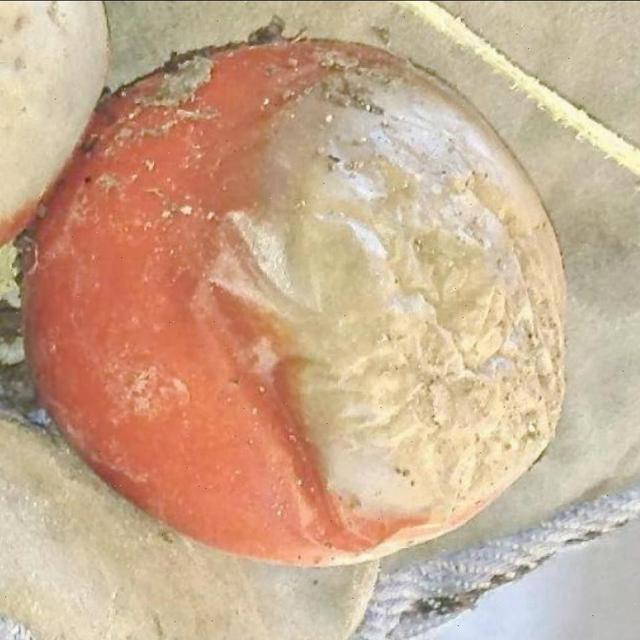Sunscald Fruit: (143, 40, 377, 353)
